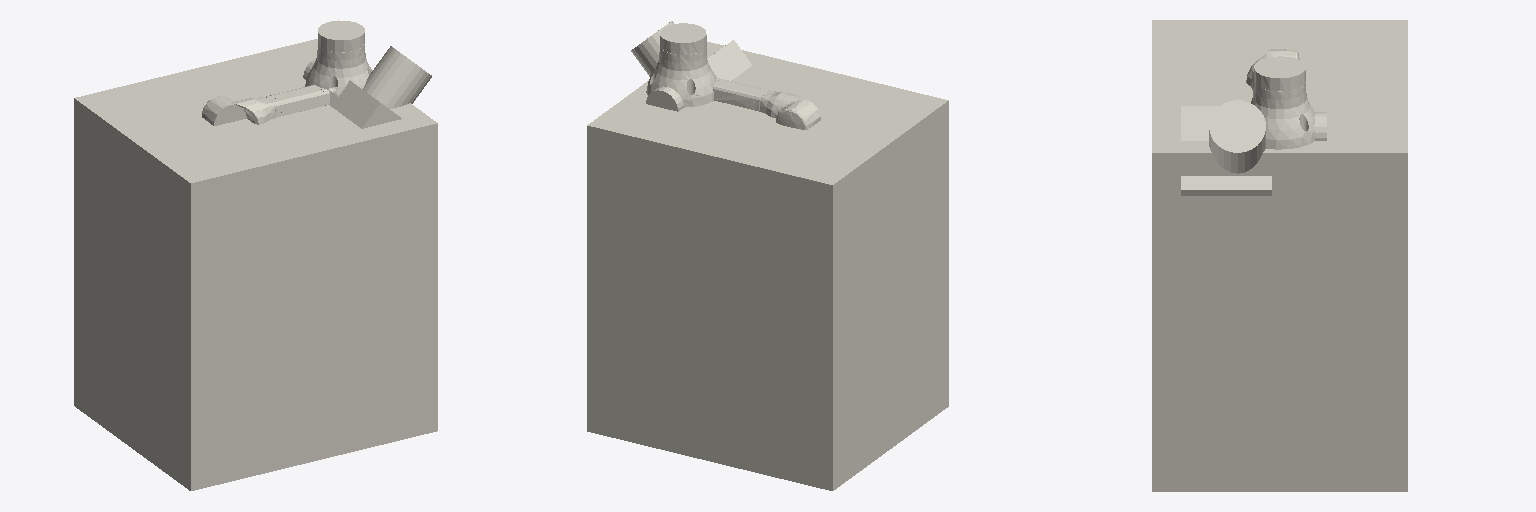
URDF robot description (lebai_lm3):
<?xml version="1.0"?>
<robot name="lebai_lm3">

  <link name="world">
  </link>

  <link name="base_link">
    <visual>
      <origin xyz="0 0 0" rpy="0 0 0" />
      <geometry>
        <mesh filename="meshes/lm3/visual/base_link.stl" />
      </geometry>
      <material name="base_link_mat">
        <color rgba="0.85882745 0.84706275 0.80784706 1.00000000"/>
      </material>
    </visual>
    <collision>
      <origin xyz="0 0 0" rpy="0 0 0" />
      <geometry>
        <mesh filename="meshes/lm3/collision/base_link.stl" />
      </geometry>
    </collision>
  </link>

  <link name="link_1">
    <visual>
      <origin xyz="0 0 0" rpy="0 0 0" />
      <geometry>
        <mesh filename="meshes/lm3/visual/link1.stl" />
      </geometry>
      <material name="link_1_mat">
        <color rgba="0.85882745 0.84706275 0.80784706 1.00000000"/>
      </material>
    </visual>
    <collision>
      <origin xyz="0 0 0" rpy="0 0 0" />
      <geometry>
        <mesh filename="meshes/lm3/collision/link1.stl" />
      </geometry>
    </collision>
    <inertial>
      <origin xyz="0 -0.011 -0.015" rpy="0 0 0" />
      <mass value="2.147" />
      <inertia ixx="0.0082391" ixy="0" ixz="0" iyy="0.0076088" iyz="0.0003238" izz="0.0032574" />
    </inertial>
  </link>

  <link name="link_2">
    <visual>
      <origin xyz="0 0 0" rpy="0 0 0" />
      <geometry>
        <mesh filename="meshes/lm3/visual/link2.stl" />
      </geometry>
      <material name="link_2_mat">
        <color rgba="0.85882745 0.84706275 0.80784706 1.00000000"/>
      </material>
    </visual>
    <collision>
      <origin xyz="0 0 0" rpy="0 0 0" />
      <geometry>
        <mesh filename="meshes/lm3/collision/link2.stl" />
      </geometry>
    </collision>
    <inertial>
      <origin xyz="-0.134 0 0.094" rpy="0 0 0" />
      <mass value="1.972" />
      <inertia ixx="0.0017129" ixy="0" ixz="0.0000738" iyy="0.0336122" iyz="0" izz="0.033848" />
    </inertial>
  </link>

  <link name="link_3">
    <visual>
      <origin xyz="0 0 0" rpy="0 0 0" />
      <geometry>
        <mesh filename="meshes/lm3/visual/link3.stl" />
      </geometry>
      <material name="link_3_mat">
        <color rgba="0.85882745 0.84706275 0.80784706 1.00000000"/>
      </material>
    </visual>
    <collision>
      <origin xyz="0 0 0" rpy="0 0 0" />
      <geometry>
        <mesh filename="meshes/lm3/collision/link3.stl" />
      </geometry>
    </collision>
    <inertial>
      <origin xyz="-0.102 0 0.019" rpy="0 0 0" />
      <mass value="1.668" />
      <inertia ixx="0.0017093" ixy="0" ixz="-0.0027506" iyy="0.022564" iyz="0" izz="0.0223839" />
    </inertial>
  </link>

  <link name="link_4">
    <visual>
      <origin xyz="0 0 0" rpy="0 0 0" />
      <geometry>
        <mesh filename="meshes/lm3/visual/link4.stl" />
      </geometry>
      <material name="link_4_mat">
        <color rgba="0.85882745 0.84706275 0.80784706 1.00000000"/>
      </material>
    </visual>
    <collision>
      <origin xyz="0 0 0" rpy="0 0 0" />
      <geometry>
        <mesh filename="meshes/lm3/collision/link4.stl" />
      </geometry>
    </collision>
    <inertial>
      <origin xyz="0 0.011 -0.039" rpy="0 0 0" />
      <mass value="0.969" />
      <inertia ixx="0.0018744" ixy="0" ixz="0" iyy="0.001781" iyz="-0.0004004" izz="0.0007962" />
    </inertial>
  </link>

  <link name="link_5">
    <visual>
      <origin xyz="0 0 0" rpy="0 0 0" />
      <geometry>
        <mesh filename="meshes/lm3/visual/link5.stl" />
      </geometry>
      <material name="link_5_mat">
        <color rgba="0.85882745 0.84706275 0.80784706 1.00000000"/>
      </material>
    </visual>
    <collision>
      <origin xyz="0 0 0" rpy="0 0 0" />
      <geometry>
        <mesh filename="meshes/lm3/collision/link5.stl" />
      </geometry>
    </collision>
    <inertial>
      <origin xyz="0 -0.011 -0.039" rpy="0 0 0" />
      <mass value="0.969" />
      <inertia ixx="0.0018744" ixy="0" ixz="0" iyy="0.001781" iyz="0.0004004" izz="0.0007962" />
    </inertial>
  </link>

  <link name="link_6">
    <visual>
      <origin xyz="0 0 0" rpy="0 0 0" />
      <geometry>
        <mesh filename="meshes/lm3/visual/link6.stl" />
      </geometry>
      <material name="link_6_mat">
        <color rgba="0.85882745 0.84706275 0.80784706 1.00000000"/>
      </material>
    </visual>
    <collision>
      <origin xyz="0 0 0" rpy="0 0 0" />
      <geometry>
        <mesh filename="meshes/lm3/collision/link6.stl" />
      </geometry>
    </collision>
    <inertial>
      <origin xyz="0 0 -0.049" rpy="0 0 0" />
      <mass value="0.584" />
      <inertia ixx="0.0005043" ixy="0" ixz="0" iyy="0.0005156" iyz="0" izz="0.0004119" />
    </inertial>
  </link>

  <link name="base">
  </link>

  <link name="tool0">
  </link>

  <joint name="joint_1" type="revolute">
    <parent link="base_link" />
    <child link="link_1" />
    <origin xyz="0 0 0.21583" rpy="0 0 0" />
    <axis xyz="0 0 1" />
    <limit lower="-6.28" upper="6.28" effort="100" velocity="3.14" />
  </joint>

  <joint name="joint_2" type="revolute">
    <parent link="link_1" />
    <child link="link_2" />
    <origin xyz="0 0 0" rpy="1.5707963 0 0" />
    <axis xyz="0 0 1" />
    <limit lower="-6.28" upper="6.28" effort="100" velocity="3.14" />
  </joint>

  <joint name="joint_3" type="revolute">
    <parent link="link_2" />
    <child link="link_3" />
    <origin xyz="-0.28 0 0" rpy="0 0 0" />
    <axis xyz="0 0 1" />
    <limit lower="-6.28" upper="6.28" effort="100" velocity="3.14" />
  </joint>

  <joint name="joint_4" type="revolute">
    <parent link="link_3" />
    <child link="link_4" />
    <origin xyz="-0.26 0 0.12063" rpy="0 0 0" />
    <axis xyz="0 0 1" />
    <limit lower="-6.28" upper="6.28" effort="100" velocity="3.14" />
  </joint>

  <joint name="joint_5" type="revolute">
    <parent link="link_4" />
    <child link="link_5" />
    <origin xyz="0 -0.09833 0" rpy="1.5707963 0 0" />
    <axis xyz="0 0 1" />
    <limit lower="-6.28" upper="6.28" effort="5.5" velocity="3.14" />
  </joint>

  <joint name="joint_6" type="revolute">
    <parent link="link_5" />
    <child link="link_6" />
    <origin xyz="0 0.08343 0" rpy="-1.5707963 0 0" />
    <axis xyz="0 0 1" />
    <limit lower="-6.28" upper="6.28" effort="4.6" velocity="3.14" />
  </joint>

  <joint name="joint_6-tool0" type="fixed">
    <parent link="link_6" />
    <child link="tool0" />
    <origin xyz="0 0 0" rpy="0 0 0" />
  </joint>

  <joint name="base_link-base" type="fixed">
    <parent link="base_link" />
    <child link="base" />
    <origin xyz="0 0 0" rpy="0 0 0" />
  </joint>

  <joint name="fixed" type="fixed">
    <parent link="world" />
    <child link="base_link" />
    <origin xyz="0 0 0" rpy="0 0 0" />
  </joint>

</robot>

--- Facts derived from the render (not from the file) ---
The picture shows the robot from 3 angles, left to right: view 1: azimuth 30°, elevation 25°; view 2: azimuth 150°, elevation 25°; view 3: azimuth 270°, elevation 25°; orthographic projection.
Robot: lebai_lm3 — 10 links, 9 joints (6 revolute, 3 fixed); root link world; default pose: every joint at zero.
Links seen in each view (by area): view 1: base_link, link_6, link_3; view 2: base_link, link_3, link_6; view 3: base_link, link_6.
Boxes of the visible links, left/top/right/bottom form: base_link: left=74, top=20, right=437, bottom=490; link_6: left=303, top=46, right=431, bottom=128; link_3: left=202, top=85, right=336, bottom=125; base_link: left=587, top=23, right=948, bottom=490; link_3: left=713, top=78, right=820, bottom=129; link_6: left=631, top=21, right=752, bottom=111; base_link: left=1152, top=20, right=1407, bottom=491; link_6: left=1181, top=100, right=1326, bottom=195.
Size in the robot's own frame: 615 by 450 by 781 metres.
Meshes: 7 distinct files referenced, 5 mesh visuals loaded (5 binary STL); not drawn: 2 (reference not matched to a file when rendering).
